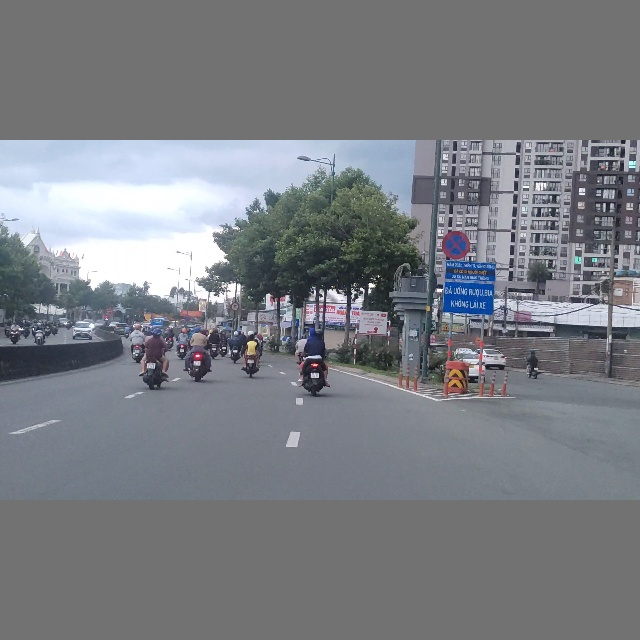P.123b: (231, 302, 239, 311)
P.130: (441, 230, 471, 260)
